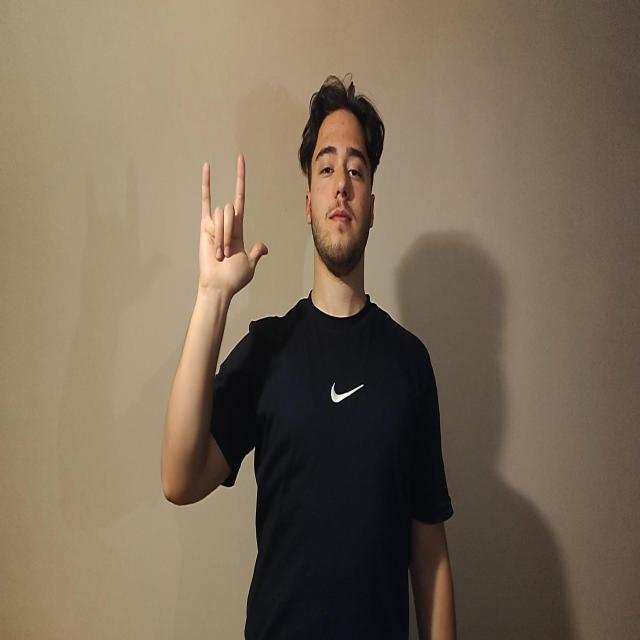iloveyou: (198, 152, 268, 301)
